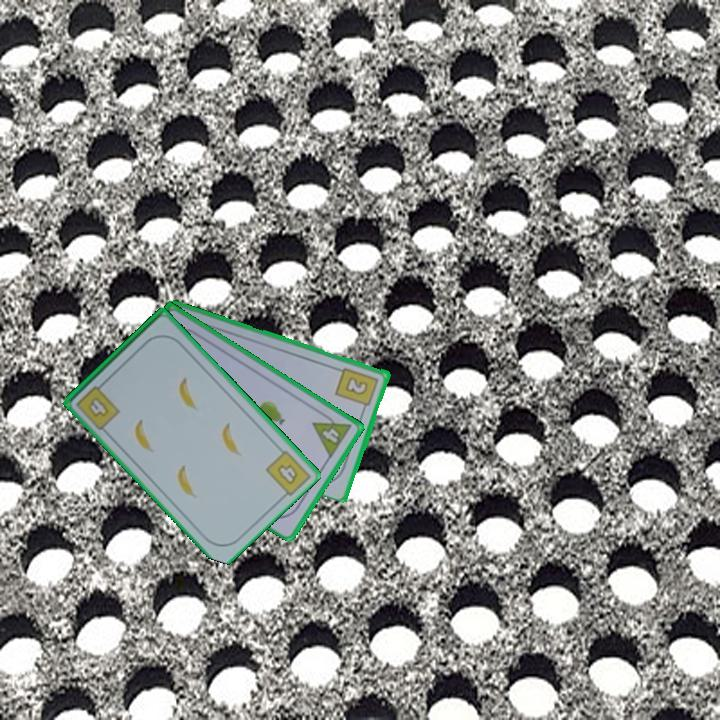2b: (333, 364, 382, 414)
4b: (72, 377, 123, 433), (274, 461, 301, 488)
4p: (309, 407, 354, 461)
